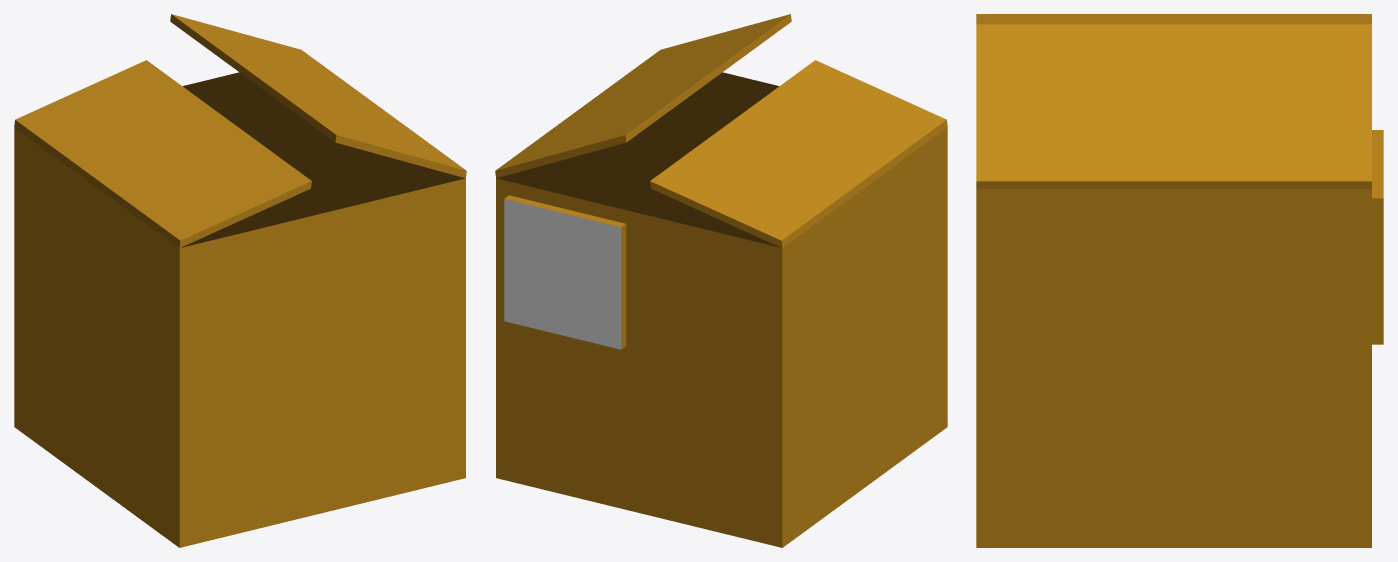
Rendered from parcel.fbx.
3 renders of one model, left to right at view 1: azimuth 30°, elevation 25°; view 2: azimuth 150°, elevation 25°; view 3: azimuth 270°, elevation 25°, orthographic. The views are drawn at different scales.
Parts seen in each view (by area): view 1: Parcel; view 2: Parcel; view 3: Parcel.
Part boxes in pixels (box(x1,y1,x2,y2)): Parcel: box(14, 14, 466, 547); Parcel: box(495, 14, 947, 547); Parcel: box(976, 14, 1383, 547).
Bounding box in the file's own units: 103 × 125 × 100.
